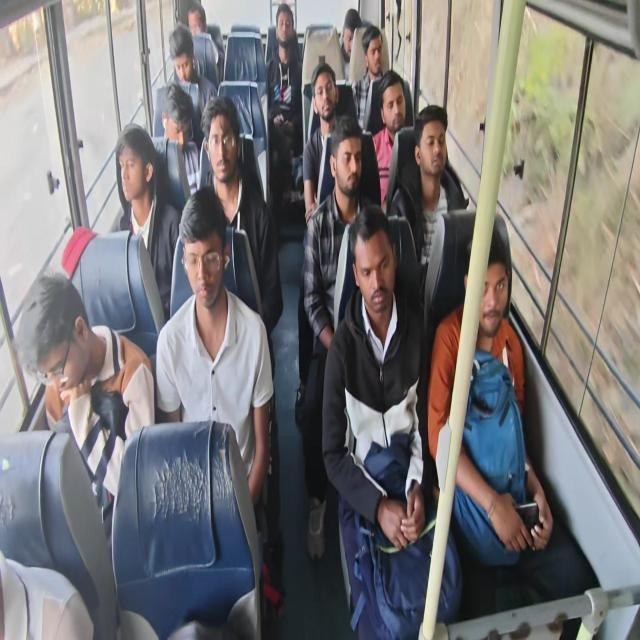person: (31, 284, 101, 398), (180, 205, 231, 305), (466, 241, 506, 330), (359, 232, 393, 314), (416, 118, 451, 187), (329, 138, 361, 208), (114, 142, 150, 200), (208, 112, 239, 176), (180, 6, 220, 52), (379, 82, 413, 134), (162, 102, 195, 154), (269, 8, 304, 56), (171, 36, 200, 93), (315, 73, 341, 114), (362, 38, 384, 77), (342, 12, 360, 59)
